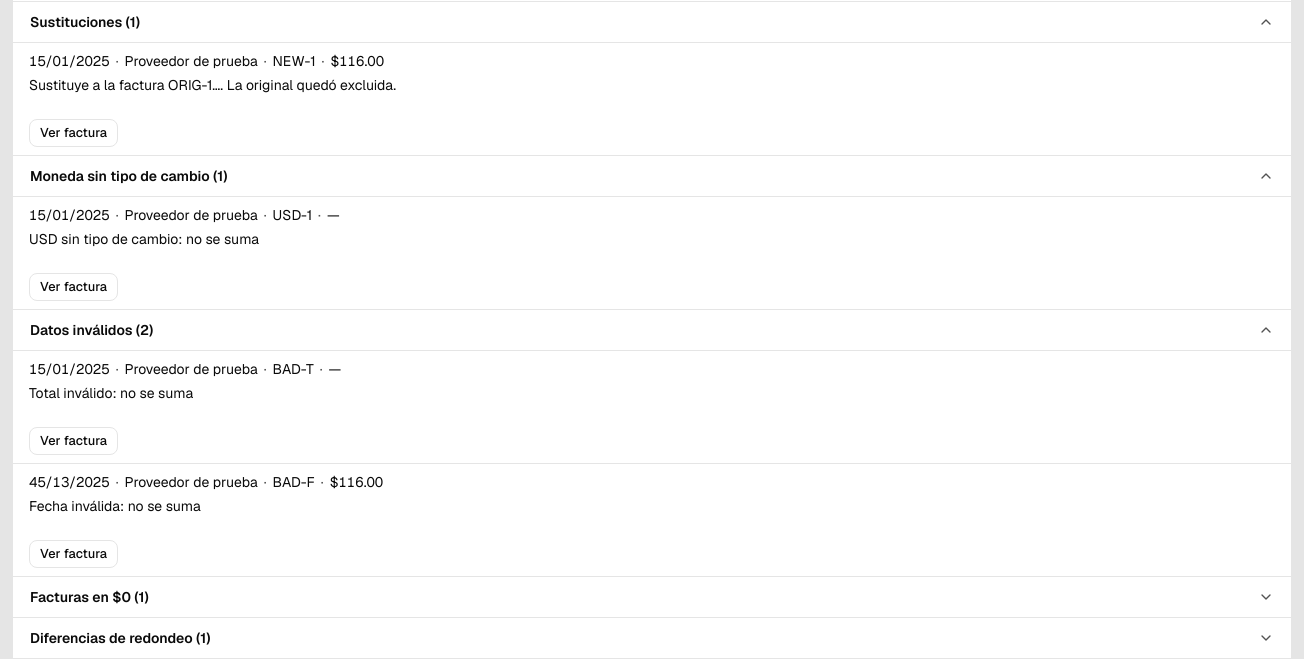
Scenario: QualityTab accordions › keeps a type that the user opened by hand open
(page scrolled)
Step 1. Click the button with test id "quality-trigger-cero" → (89,597), box [13,577,1291,617]
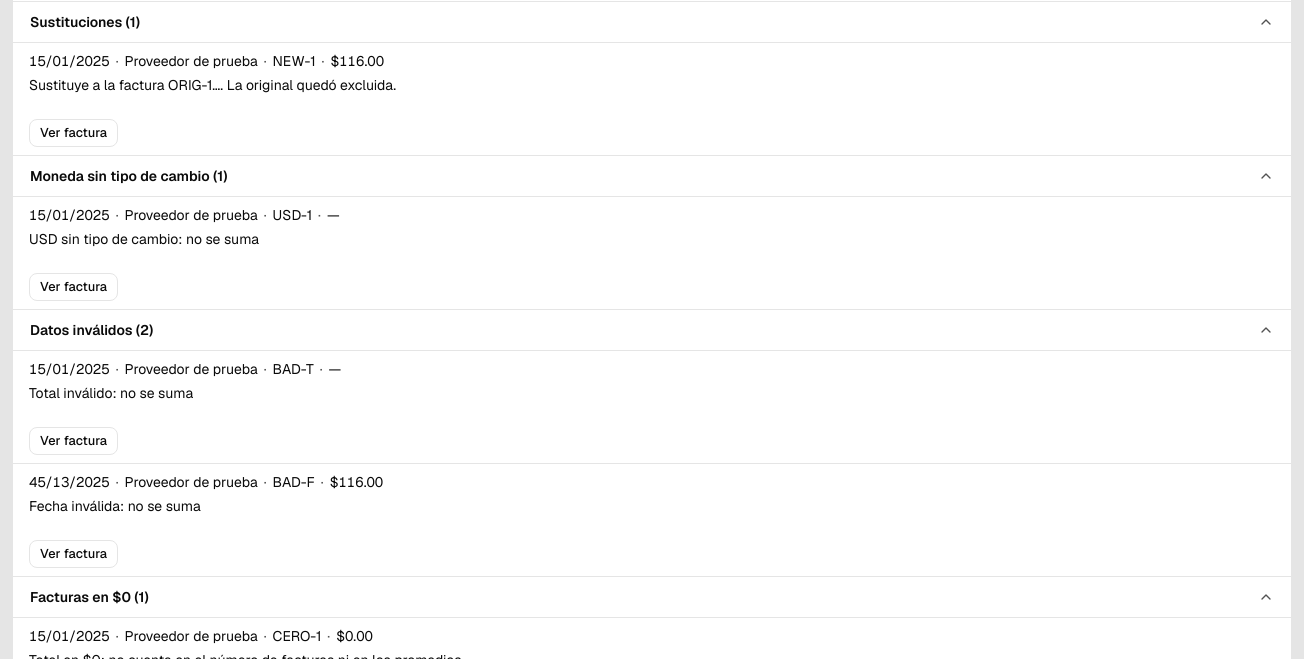
expect the button with test id "quality-trigger-cero" is expanded: met, box [13,577,1291,617]
